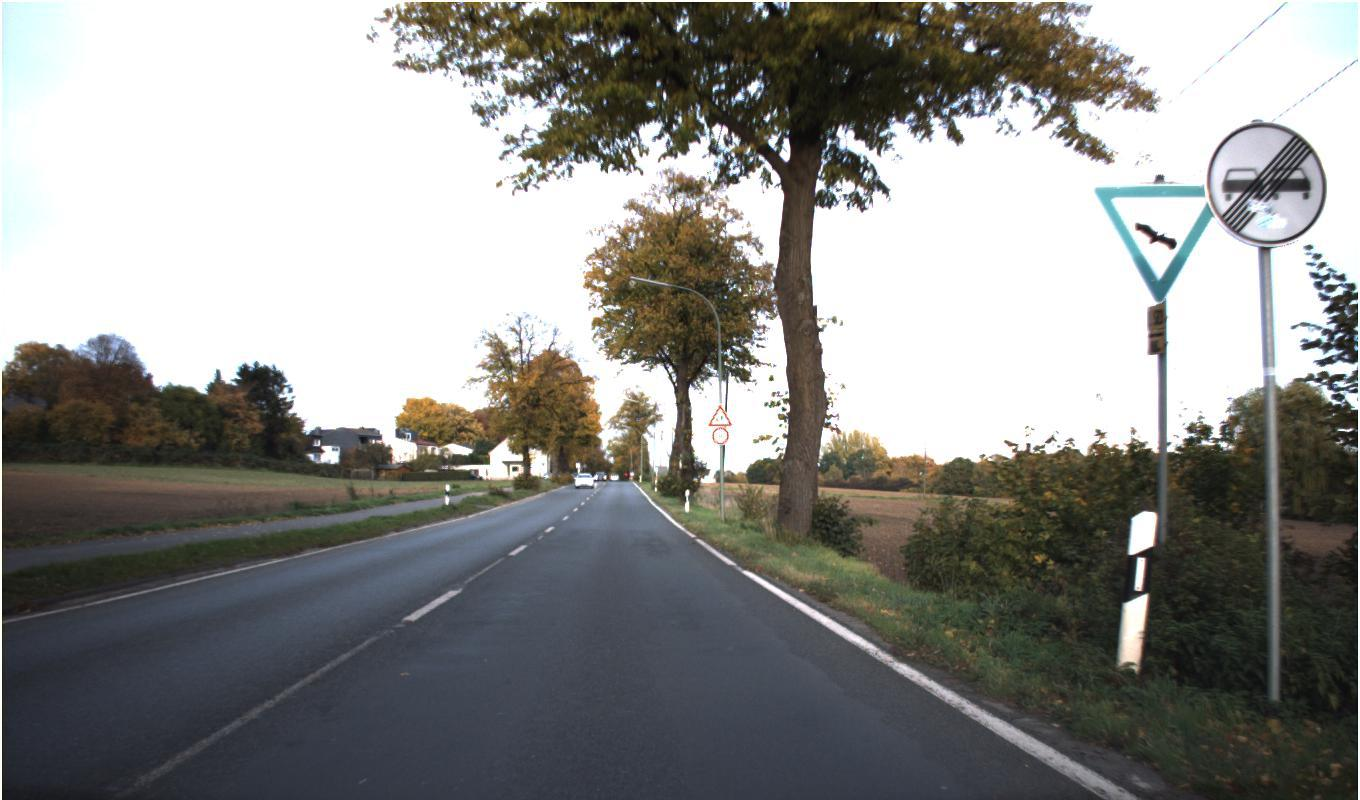28: (707, 404, 732, 426)
41: (1205, 122, 1327, 246)
speed limit 50 prohibitory: (711, 427, 729, 445)
